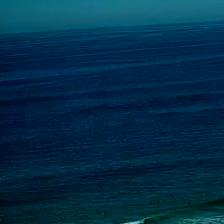surfer: (59, 215, 64, 220), (80, 215, 88, 218), (172, 194, 177, 198), (149, 199, 152, 203), (155, 202, 159, 205), (186, 201, 190, 204), (161, 199, 164, 203), (104, 211, 106, 215), (140, 204, 144, 206)
